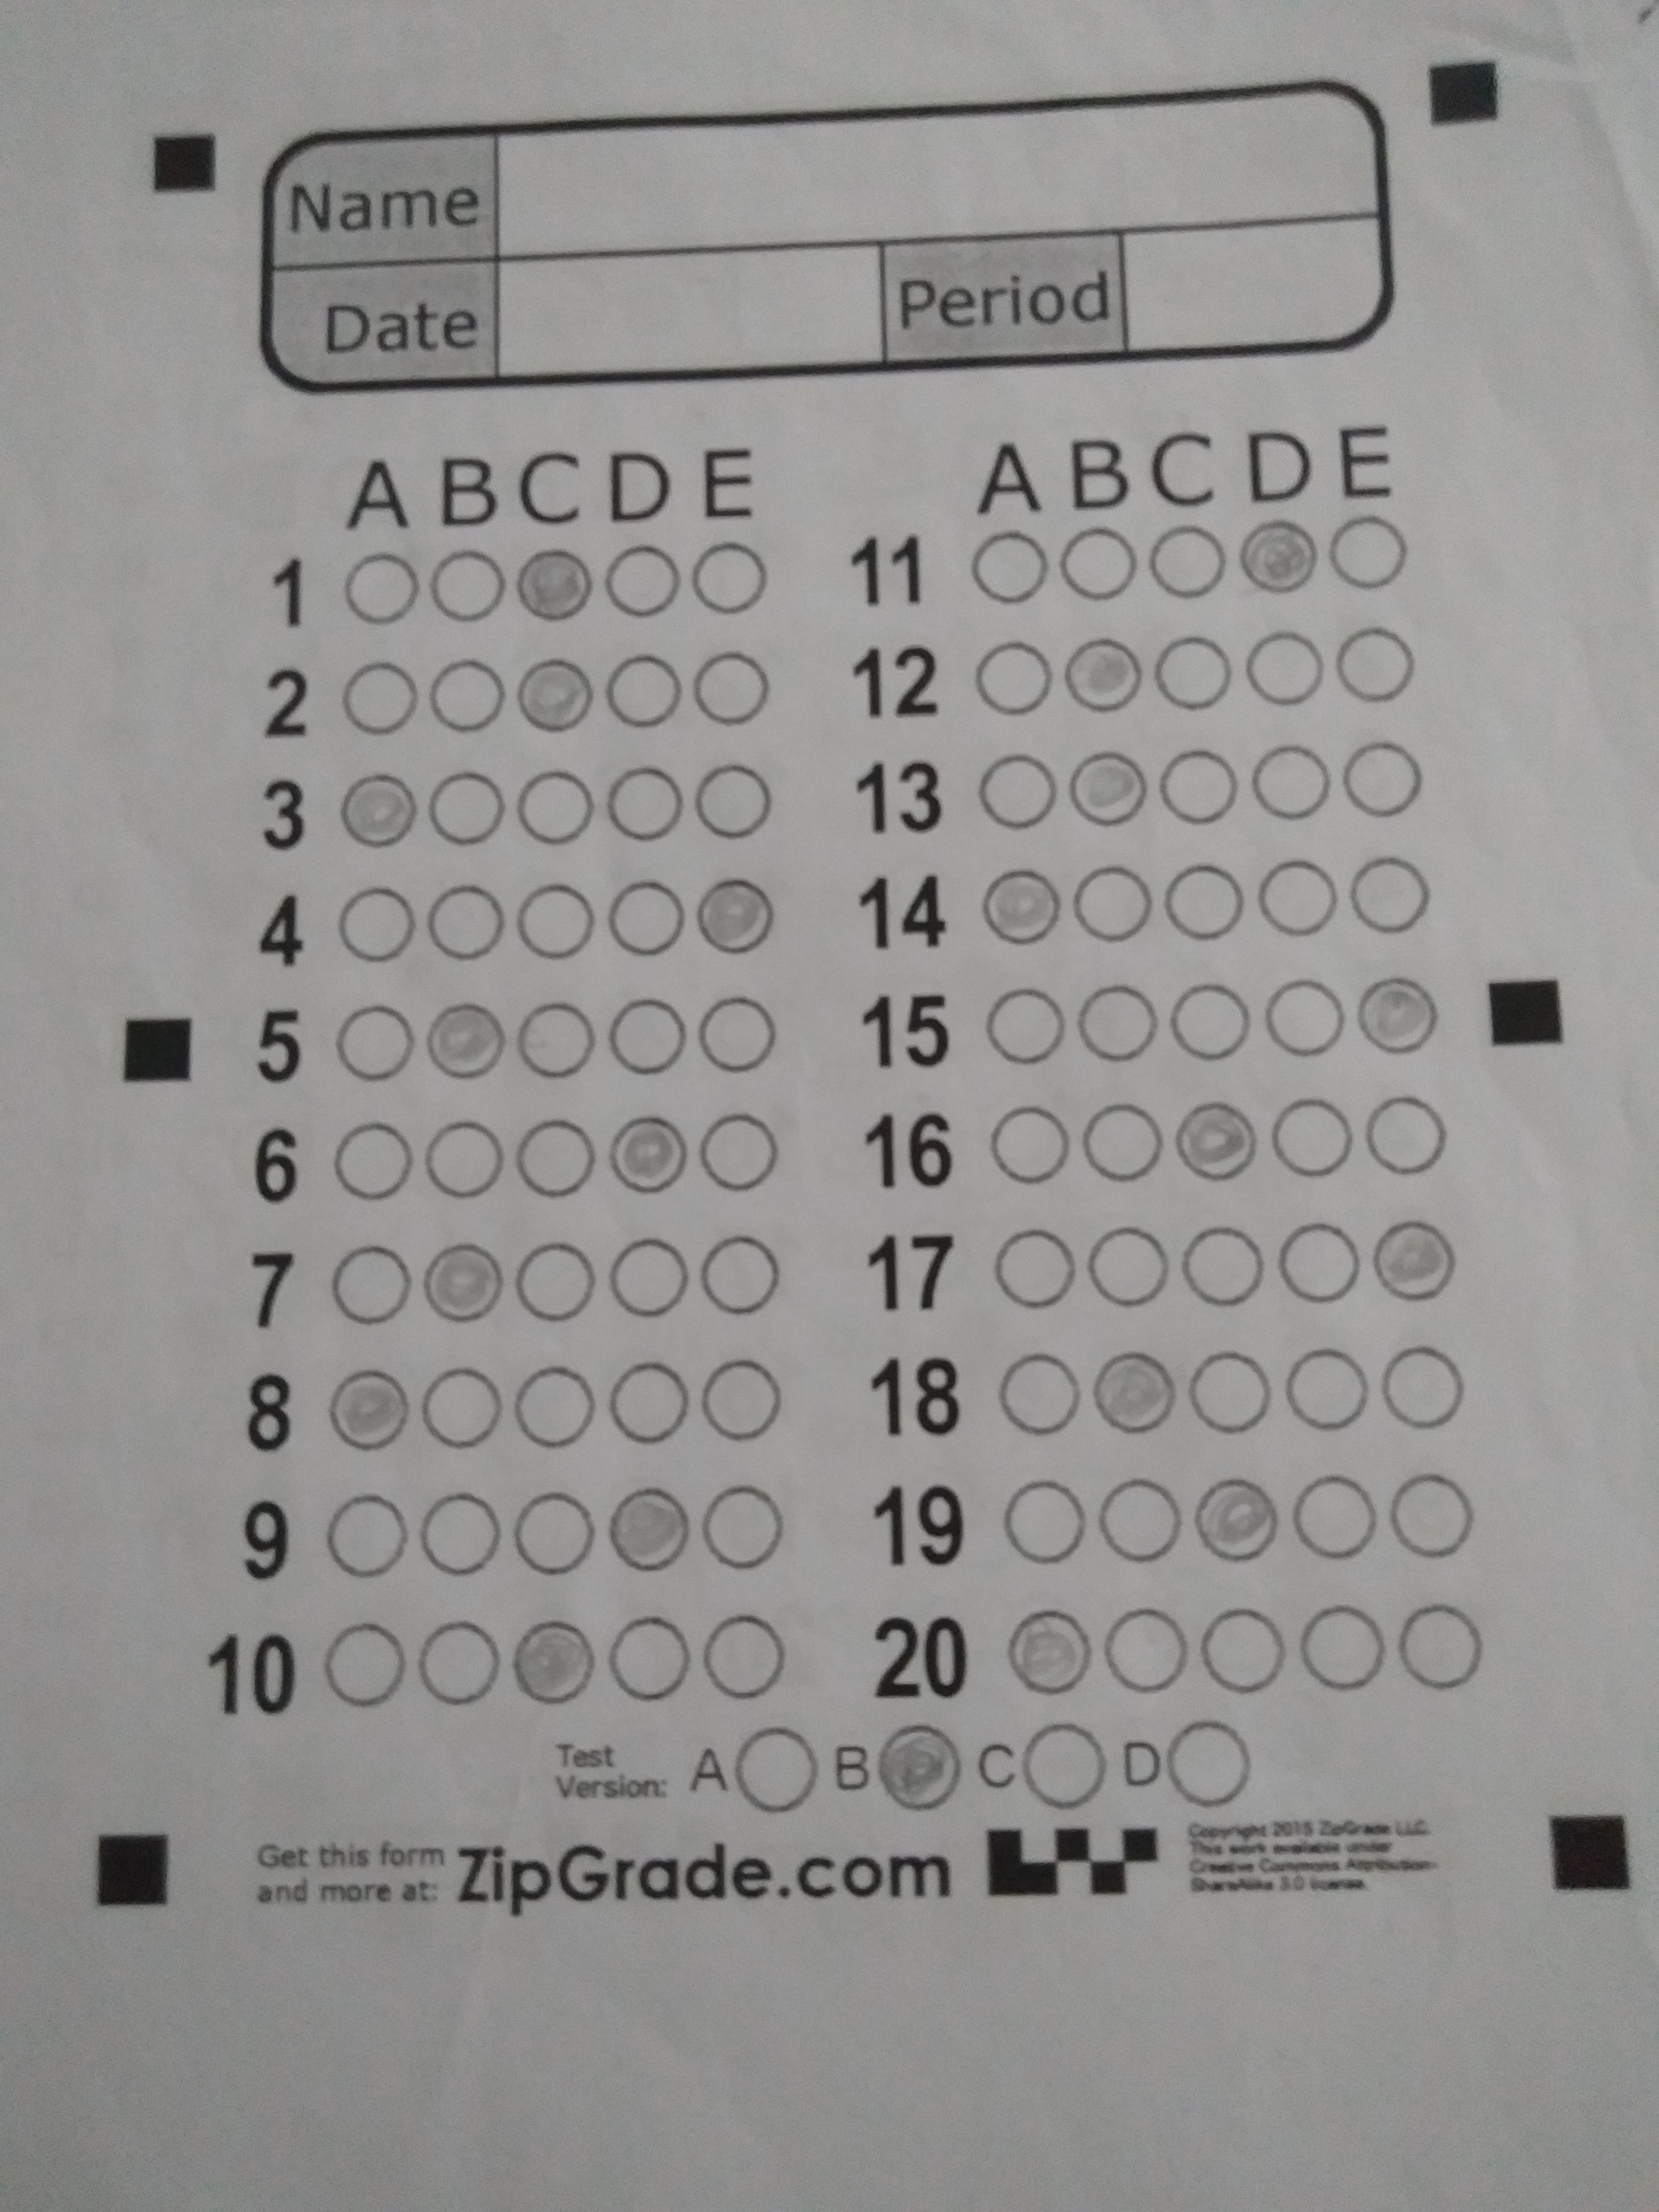not-c: (1002, 1477, 1091, 1566), (701, 1613, 789, 1702), (1291, 1470, 1380, 1559), (1300, 1599, 1387, 1689), (1103, 1602, 1190, 1693), (605, 1357, 692, 1447), (511, 1360, 598, 1451), (418, 1364, 505, 1454), (324, 1491, 411, 1581), (416, 1489, 504, 1580), (1166, 1717, 1253, 1808), (1094, 1475, 1182, 1566), (1284, 1343, 1371, 1433), (1378, 1341, 1466, 1432), (1398, 1601, 1485, 1691), (1201, 1606, 1288, 1695), (512, 1491, 599, 1580), (699, 1355, 786, 1444), (701, 1484, 788, 1573), (606, 1616, 694, 1705), (413, 1620, 500, 1709), (322, 1620, 410, 1709), (1019, 1719, 1107, 1808), (734, 1723, 821, 1811), (997, 1346, 1084, 1435), (1187, 1348, 1274, 1437), (1389, 1470, 1476, 1559), (1276, 1217, 1363, 1306), (1178, 1219, 1265, 1308), (1084, 1219, 1171, 1308), (990, 1223, 1077, 1312), (512, 1238, 599, 1324), (1270, 1094, 1358, 1179), (1363, 1090, 1450, 1176), (1349, 852, 1436, 937), (1262, 970, 1349, 1055), (1166, 981, 1253, 1066), (1073, 981, 1161, 1066), (418, 1116, 505, 1202), (329, 996, 416, 1082), (697, 1231, 782, 1317), (1256, 852, 1342, 937), (694, 1108, 779, 1193), (986, 1104, 1073, 1188), (606, 1235, 694, 1318), (1161, 860, 1248, 944), (981, 982, 1068, 1066), (329, 1118, 416, 1202), (512, 1115, 599, 1198), (694, 995, 781, 1078), (1079, 1101, 1166, 1184), (329, 1242, 415, 1325), (606, 995, 692, 1078), (512, 996, 598, 1080), (425, 547, 509, 629), (1157, 745, 1241, 827), (423, 766, 507, 848), (1073, 862, 1155, 944), (336, 883, 418, 965), (423, 881, 505, 963), (514, 878, 596, 960), (605, 761, 687, 843), (1344, 738, 1425, 820), (1251, 738, 1333, 820), (338, 657, 420, 738), (425, 655, 507, 737), (974, 747, 1056, 829), (1335, 622, 1417, 704), (1244, 629, 1326, 711), (972, 636, 1054, 718), (603, 651, 685, 733), (688, 648, 770, 730), (599, 540, 681, 622), (1154, 634, 1236, 716), (1326, 509, 1408, 590), (1147, 519, 1229, 601), (1060, 521, 1141, 603), (971, 528, 1053, 610), (685, 540, 767, 622), (606, 876, 690, 956), (340, 549, 422, 629), (692, 761, 774, 841), (514, 768, 596, 848)
taken-c: (999, 1606, 1096, 1698), (504, 1618, 601, 1710), (1192, 1474, 1288, 1564), (873, 1721, 965, 1811), (321, 1369, 413, 1456), (976, 862, 1068, 949), (1060, 742, 1152, 829), (1366, 1217, 1459, 1303), (1089, 1352, 1182, 1437), (411, 1237, 504, 1322), (1166, 1097, 1258, 1183), (1345, 972, 1438, 1057), (418, 998, 511, 1083), (1058, 631, 1150, 716), (1234, 512, 1326, 597), (688, 876, 781, 961), (603, 1486, 694, 1571), (509, 655, 599, 740), (603, 1111, 695, 1195), (511, 545, 601, 625), (335, 768, 418, 852)
